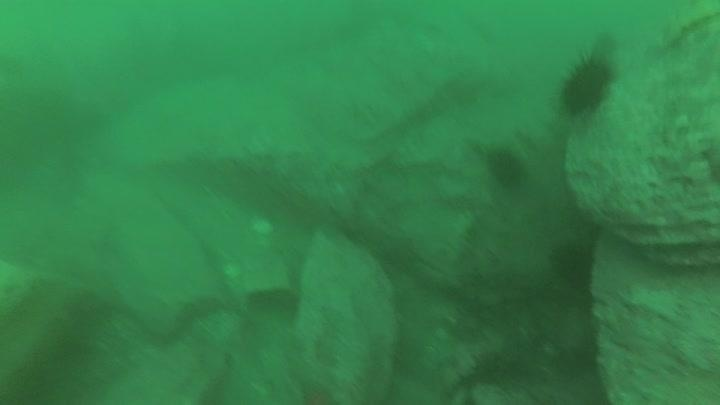echinus: (554, 52, 617, 119), (548, 238, 596, 288), (483, 146, 529, 191), (589, 29, 621, 57)
